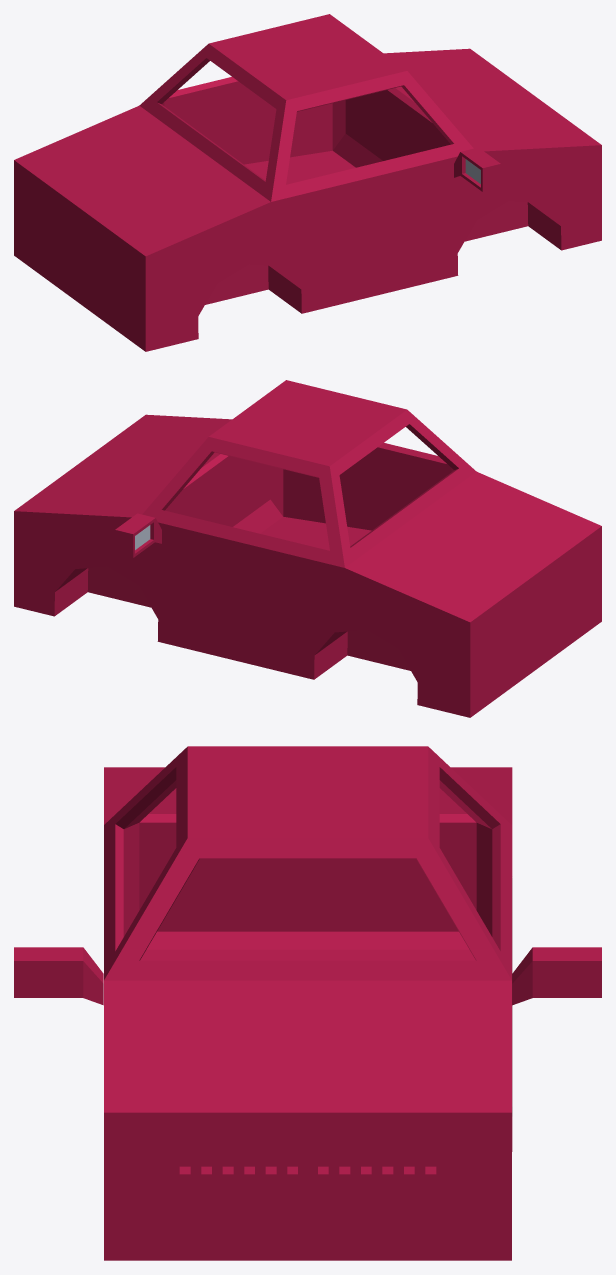
The model's file is Car.glb.
3 renders of one model, top to bottom at view 1: azimuth 30°, elevation 25°; view 2: azimuth 150°, elevation 25°; view 3: azimuth 270°, elevation 25°, orthographic. The views are drawn at different scales.
Parts seen in each view (by area): view 1: Cube.083; view 2: Cube.083; view 3: Cube.083.
Boxes of the visible parts, x1,y1,x2,y2 form: Cube.083: (14, 14, 601, 351); Cube.083: (14, 380, 601, 717); Cube.083: (14, 746, 601, 1260).
Bounding box in the file's own units: 0.129 × 0.0516 × 0.0929.
Materials: 1 (1 with a texture image).
